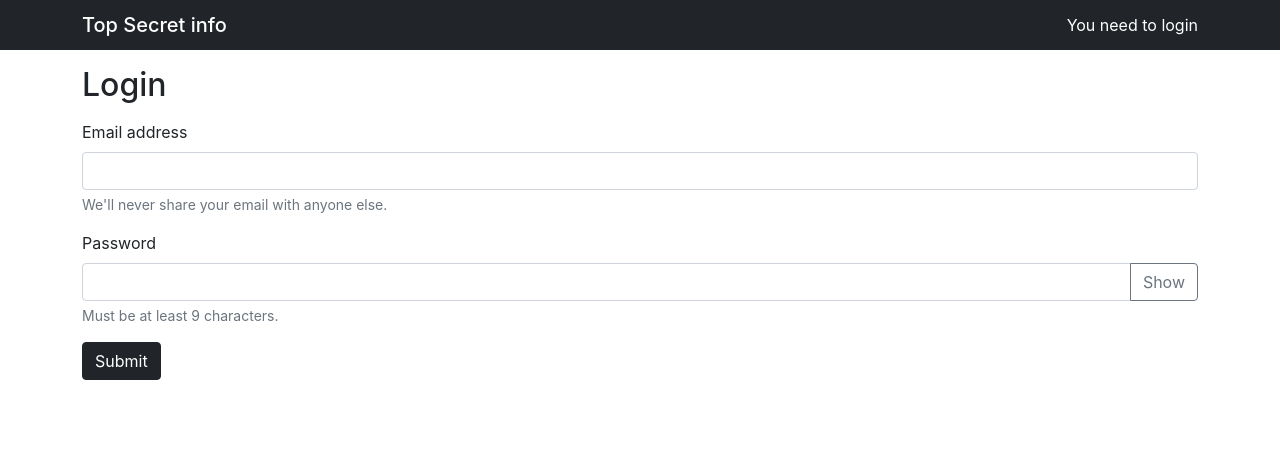
Scenario: App › rejects a password shorter than 9 characters
This screenshot has width=1280, height=475.
Type "demo@example.com" into the field labelled "Email address" at (640, 171), box left=82, top=152, right=1198, bottom=190
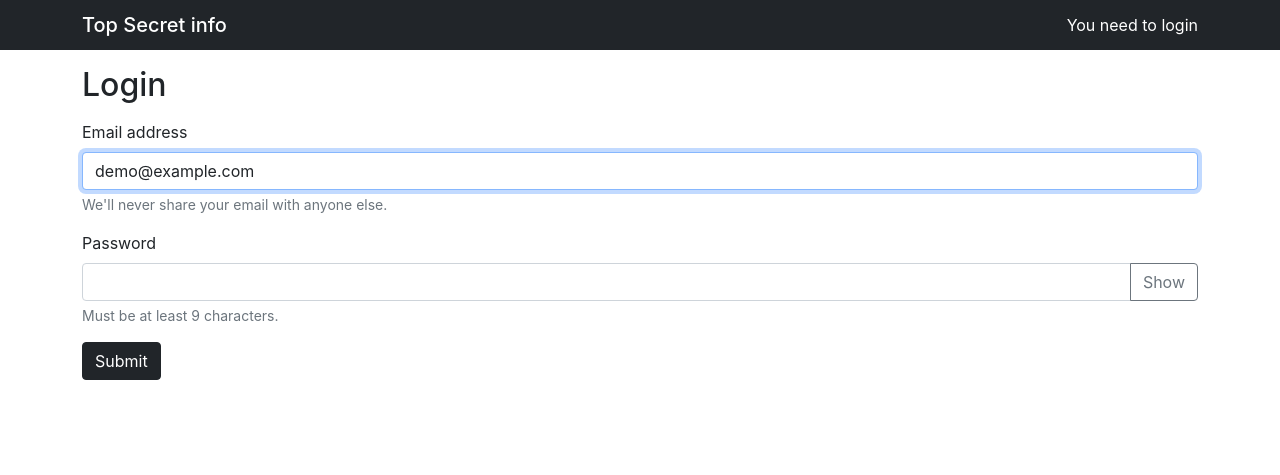
Type "short" into the password field labelled "Password" at (606, 282), box left=82, top=263, right=1131, bottom=301
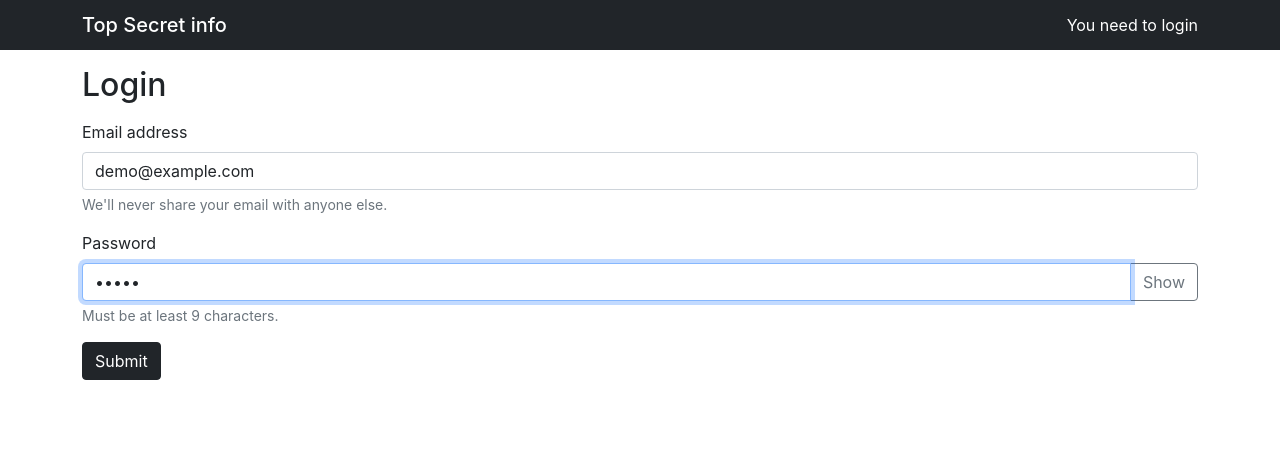
Click the button "Submit" at (121, 361), box left=82, top=342, right=161, bottom=380
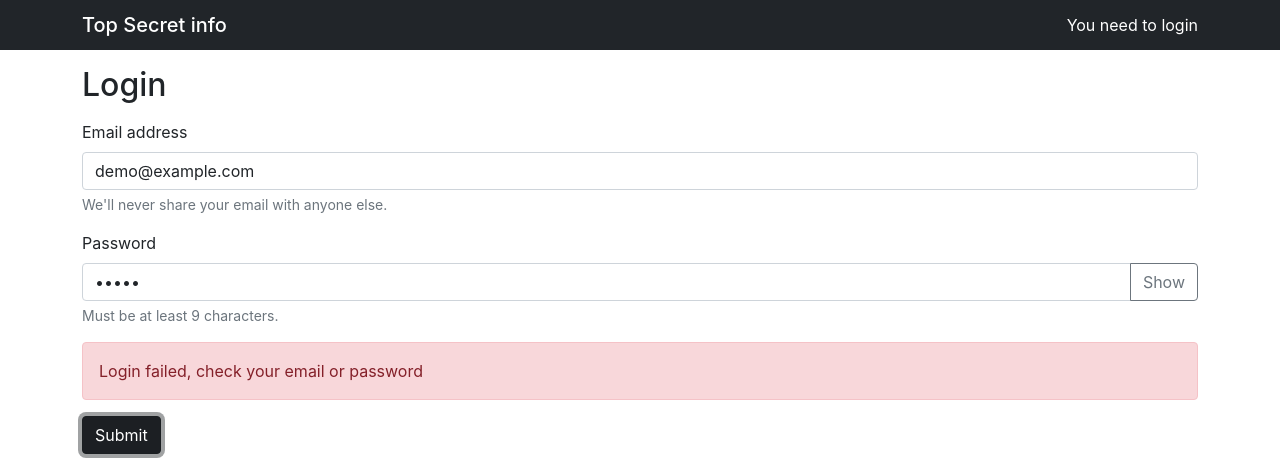
Check: the message reads "Login failed, check your email or password", box left=99, top=361, right=423, bottom=381
